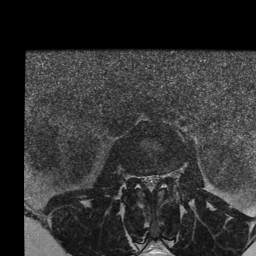CCS_normal: (147, 169, 154, 197)
LFS_severe_stenosis: (161, 165, 168, 187)
LLS_normal: (153, 168, 161, 190)
RFS_severe_stenosis: (133, 166, 140, 187)
RLS_normal: (140, 168, 146, 190)
